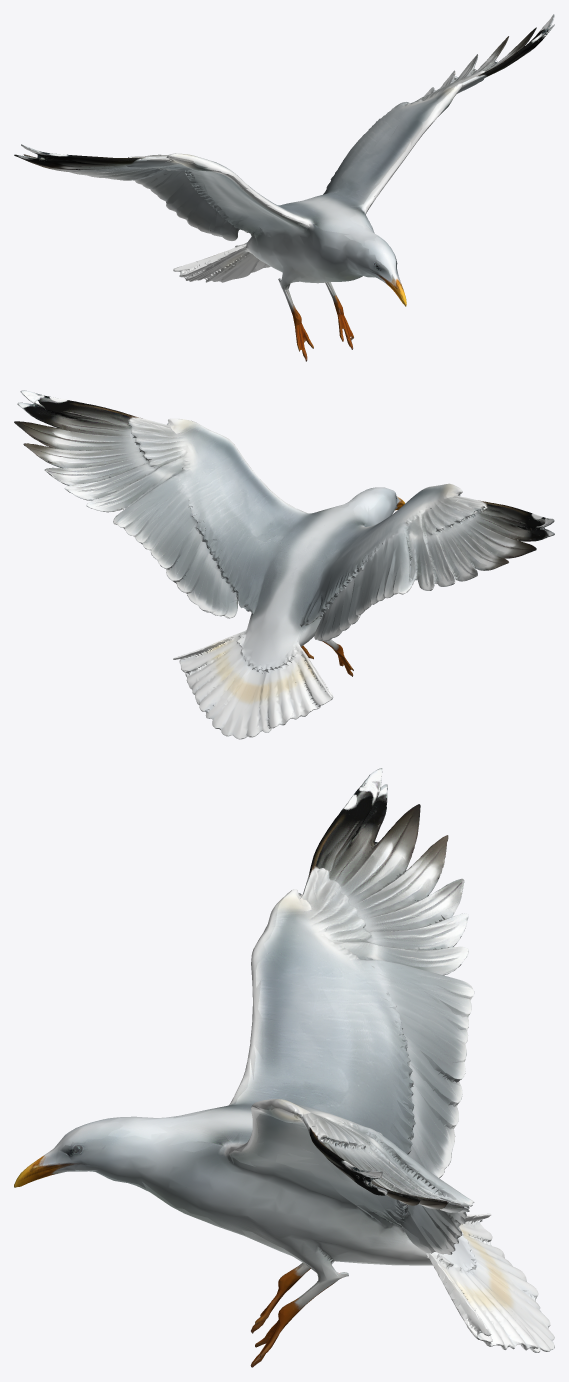
The model's file is sea_gull.glb.
The picture shows the model from 3 angles, top to bottom: view 1: azimuth 30°, elevation 25°; view 2: azimuth 150°, elevation 25°; view 3: azimuth 270°, elevation 25°; orthographic projection. The views are drawn at different scales.
Bounding box in the file's own units: 1.9 × 0.8299 × 1.07.
1 material, 1 textured.
